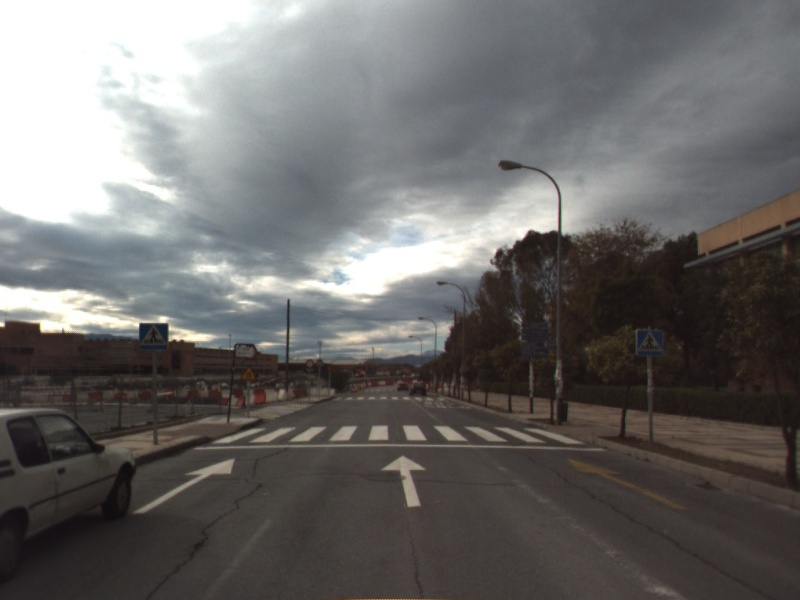STRAIGHT: (566, 456, 689, 512), (129, 456, 237, 516), (379, 453, 430, 509)
